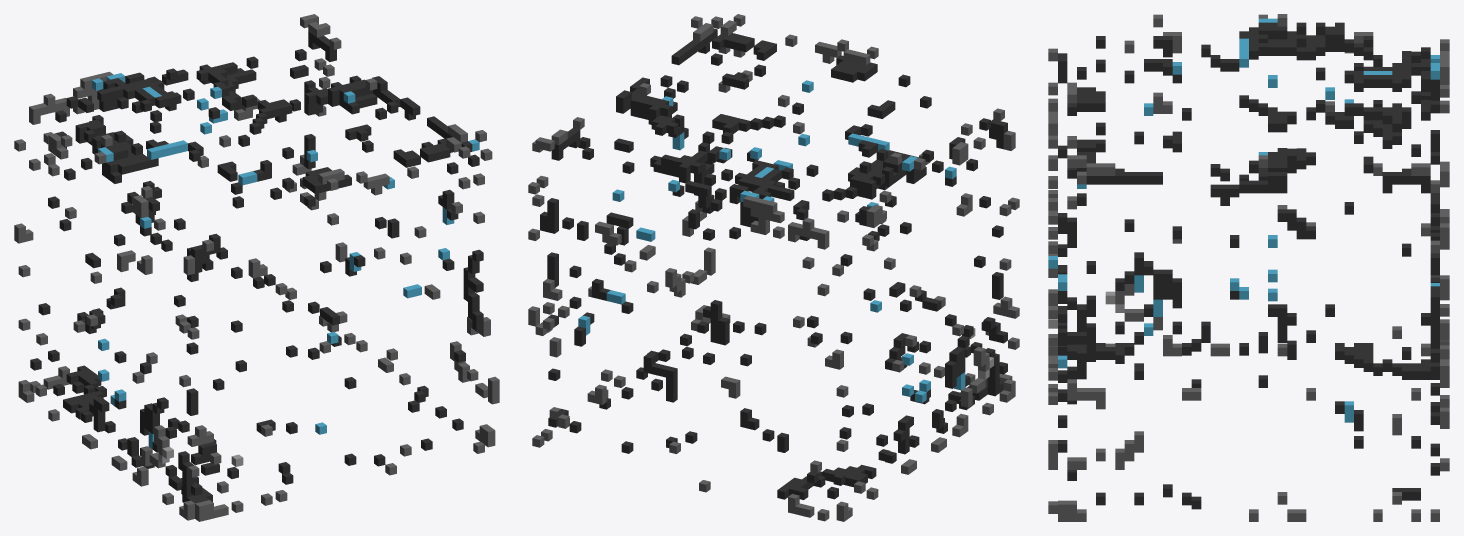
File: space_crate_die4.obj
The picture shows the model from 3 angles, left to right: view 1: azimuth 30°, elevation 25°; view 2: azimuth 150°, elevation 25°; view 3: azimuth 270°, elevation 25°; orthographic projection. The views are drawn at different scales.
Visible parts, largest first — view 1: space_crate_die4; view 2: space_crate_die4; view 3: space_crate_die4.
Boxes of the visible parts, bbox=[...] form: space_crate_die4: bbox=[14, 14, 499, 521]; space_crate_die4: bbox=[528, 14, 1019, 521]; space_crate_die4: bbox=[1048, 14, 1449, 521].
Bounding box in the file's own units: 42 × 40 × 42.
1 material, 1 textured.
